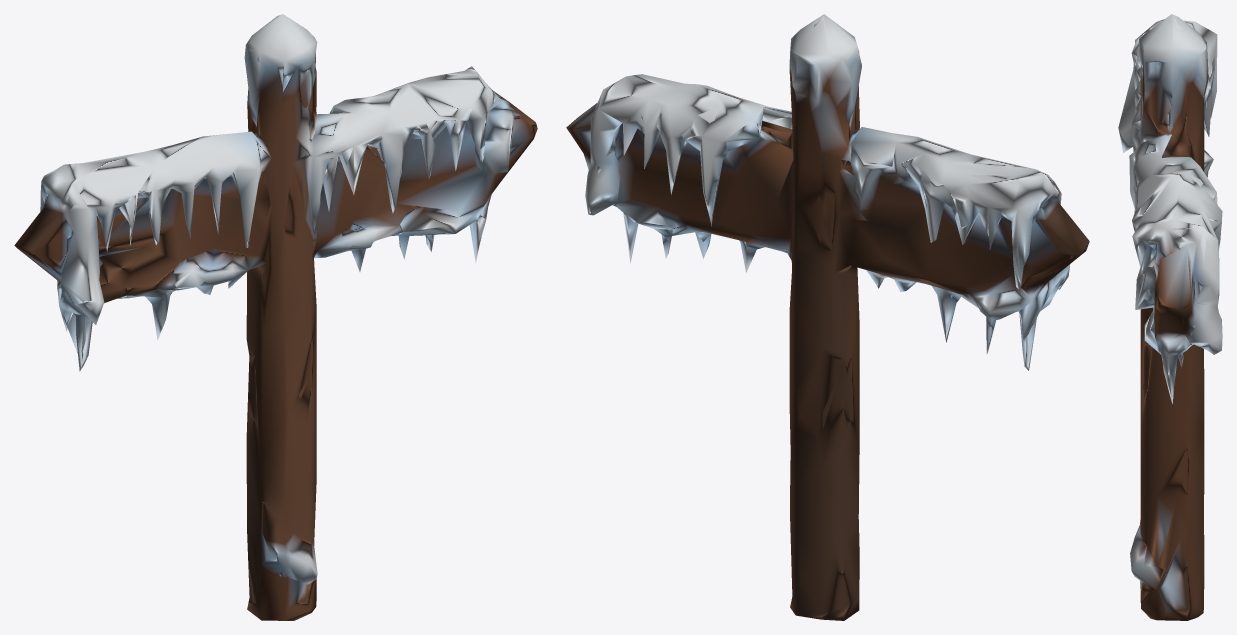
The model's file is gen3d-frozen-signpost-lod0.glb.
The picture shows the model from 3 angles, left to right: view 1: azimuth 30°, elevation 25°; view 2: azimuth 150°, elevation 25°; view 3: azimuth 270°, elevation 25°; orthographic projection.
Visible parts, largest first — view 1: part_0; view 2: part_0; view 3: part_0.
Part boxes in pixels (x1,y1,x2,y2): part_0: (14, 14, 537, 620); part_0: (566, 14, 1089, 620); part_0: (1118, 14, 1222, 620).
Bounding box in the file's own units: 0.9056 × 1 × 0.1585.
